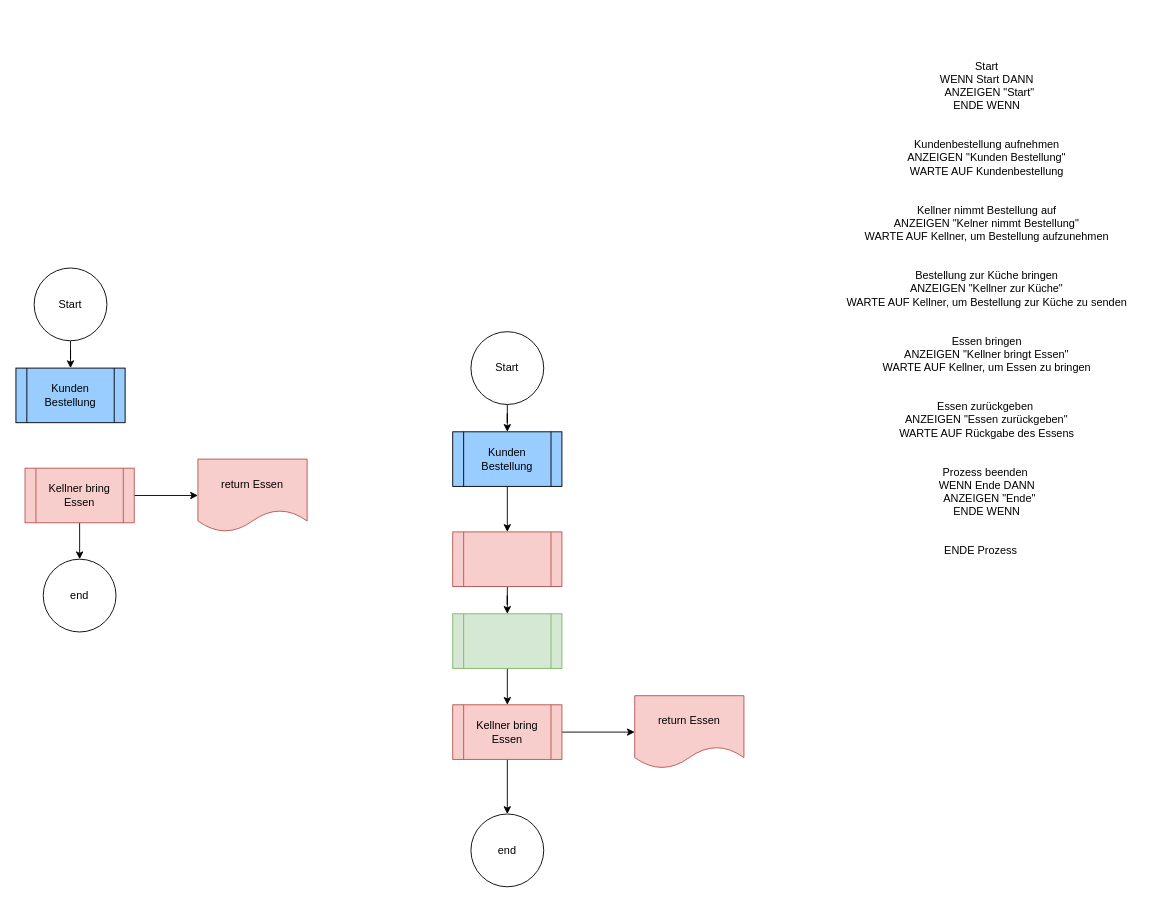
This 1156x903 diagram has some shape labels left out. The centre of each missing label's shape, as x and y in pixels:
"Kellner zur Küche" belongs at [507,640].
"Kelner nimmt Bestellung" belongs at [507,558].
